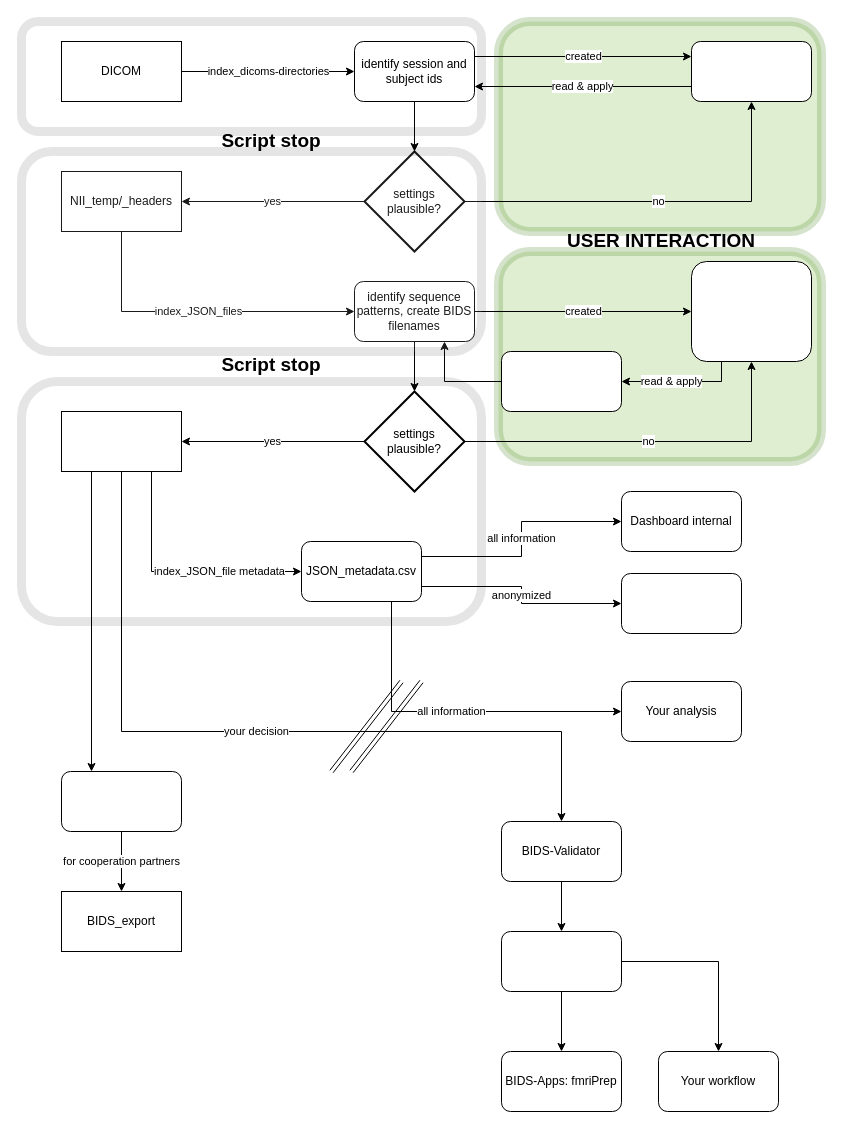
Some shapes in this 843 by 1129 pixel diagram are drawn without their labels. The centre of each missing label's shape, as x and y in pixels:
BIDS: the point at 121,441
BIDS_export.csv - select Sequences, Sessions, Subjects, Groups: the point at 121,801
Dashboard external: the point at 681,603
detection (anat/dwi/func): the point at 561,381
Lookup table: user settings (sequences to BIDS filenames), relevant sequences: the point at 751,311
Lookup table: user_settings (sessions and subjects): the point at 751,71
MRIQC: the point at 561,961
